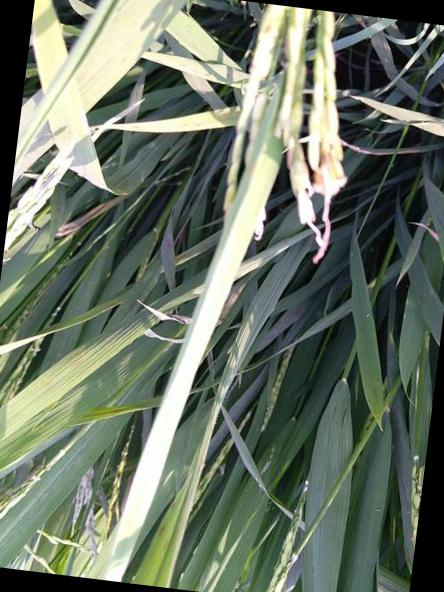Panicle Blight: (308, 140, 347, 243), (248, 18, 270, 73), (280, 131, 300, 175)
